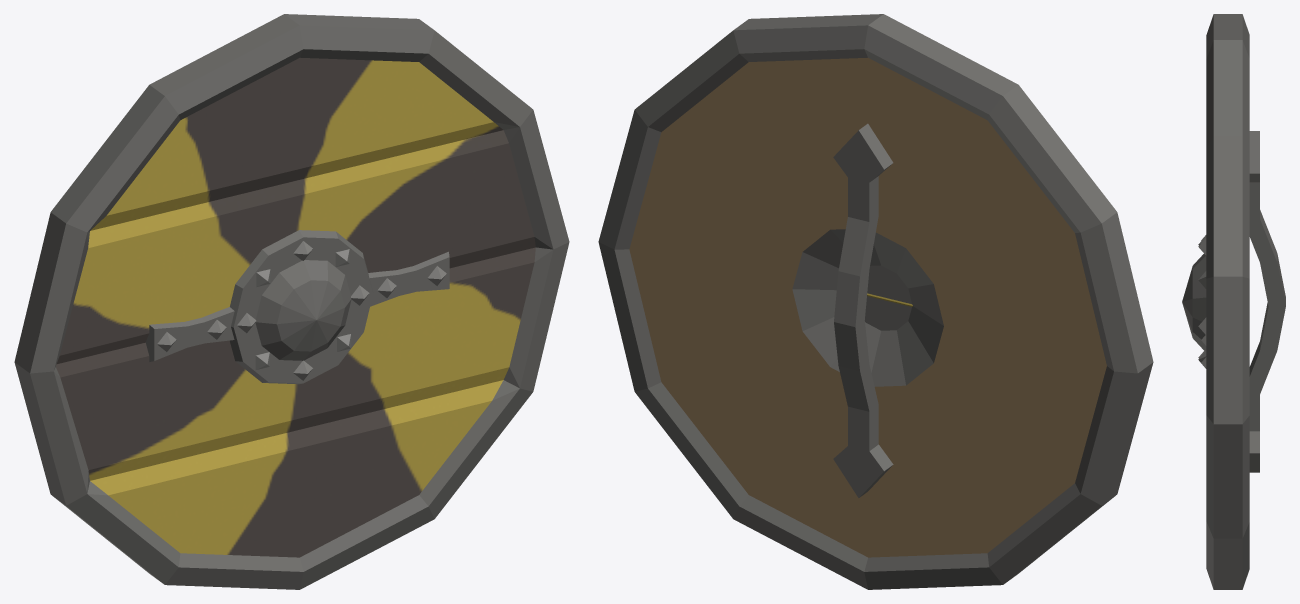
The model's file is SM_pwe_slavic_shield_03h.fbx.
3 renders of one model, left to right at view 1: azimuth 30°, elevation 25°; view 2: azimuth 150°, elevation 25°; view 3: azimuth 270°, elevation 25°, orthographic. The views are drawn at different scales.
Parts seen in each view (by area): view 1: SM_pwe_slavic_shield_03h; view 2: SM_pwe_slavic_shield_03h; view 3: SM_pwe_slavic_shield_03h.
Part boxes in pixels (x1,y1,x2,y2): SM_pwe_slavic_shield_03h: (14,14,569,589); SM_pwe_slavic_shield_03h: (598,14,1153,589); SM_pwe_slavic_shield_03h: (1182,14,1285,589).
Size of the model in its own units: 70.52 by 70.52 by 12.67.
